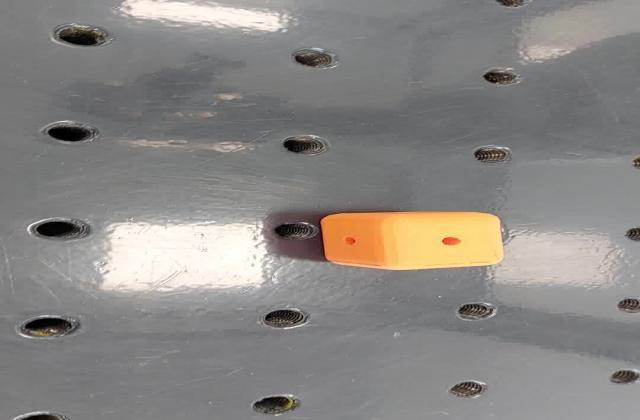cube: (310, 208, 518, 272)
